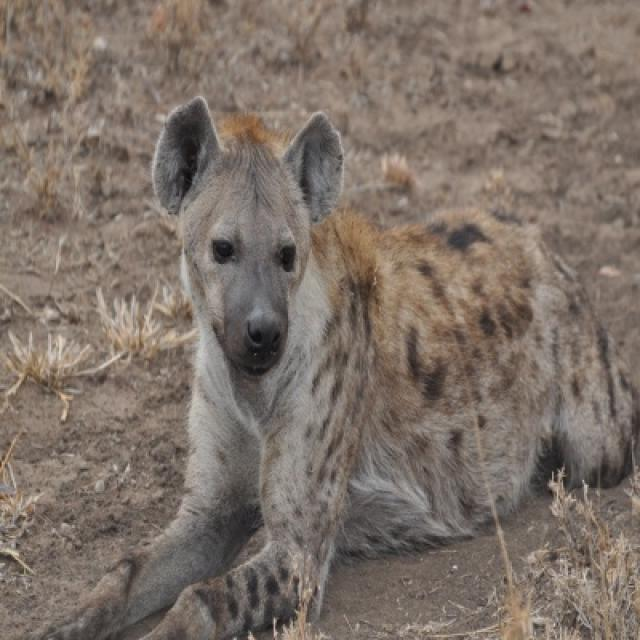hyena: (48, 98, 638, 638)
